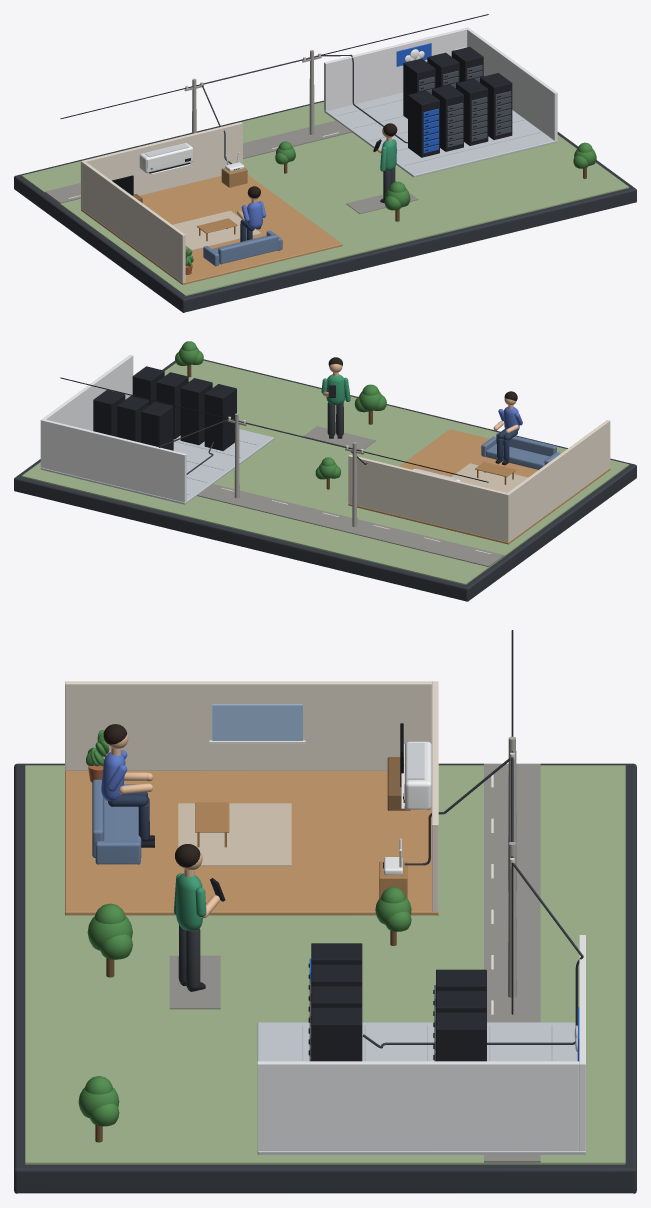
Rendered from iot-home.glb.
The picture shows the model from 3 angles, top to bottom: view 1: azimuth 30°, elevation 25°; view 2: azimuth 150°, elevation 25°; view 3: azimuth 270°, elevation 25°; orthographic projection. The views are drawn at different scales.
Visible parts, largest first — view 1: Static, Part_Cloud, Part_Aircon; view 2: Static, Part_Cloud; view 3: Static, Part_Aircon, Part_Cloud.
Part boxes in pixels (<box>): Static: <box>14,14,636,312</box>; Part_Cloud: <box>408,90,439,157</box>; Part_Aircon: <box>139,143,193,173</box>; Static: <box>14,341,636,601</box>; Part_Cloud: <box>204,384,236,450</box>; Static: <box>14,630,636,1193</box>; Part_Aircon: <box>403,741,431,810</box>; Part_Cloud: <box>309,943,362,980</box>.
Size of the model in its own units: 1.7 by 0.3532 by 1.1.
